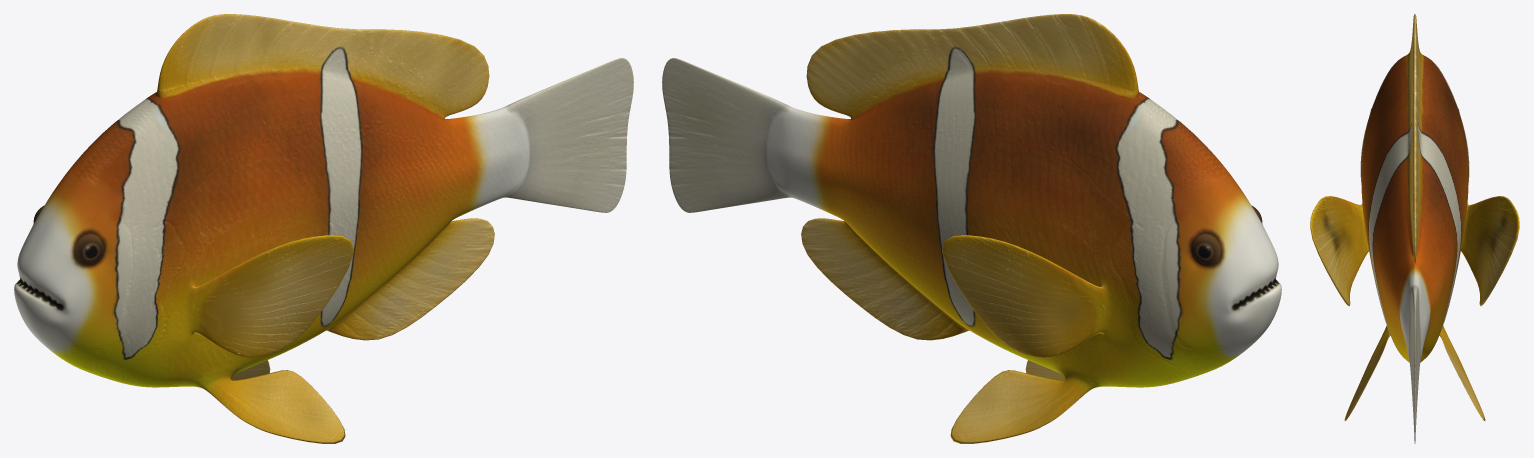
The model's file is fish.glb.
3 views of the same model, side by side, from view 1: azimuth 30°, elevation 25°; view 2: azimuth 150°, elevation 25°; view 3: azimuth 270°, elevation 25° (orthographic). The views are drawn at different scales.
Visible parts, largest first — view 1: 12265_Fish_v1_L2; view 2: 12265_Fish_v1_L2; view 3: 12265_Fish_v1_L2.
Boxes of the visible parts, x1,y1,x2,y2 form: 12265_Fish_v1_L2: (14,14,633,443); 12265_Fish_v1_L2: (662,14,1281,443); 12265_Fish_v1_L2: (1310,14,1519,443).
Size of the model in its own units: 28.7 by 18.67 by 9.69.
Materials: 1 (1 with a texture image).
